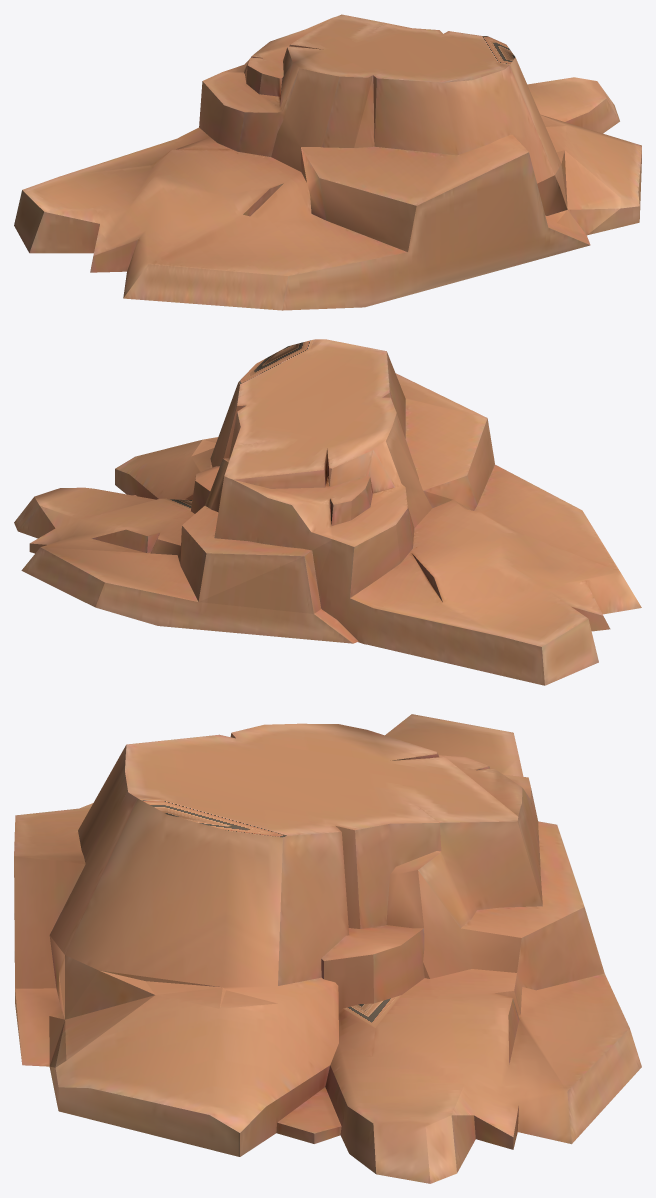
File: desert-rock-08.glb
3 renders of one model, top to bottom at view 1: azimuth 30°, elevation 25°; view 2: azimuth 150°, elevation 25°; view 3: azimuth 270°, elevation 25°, orthographic. The views are drawn at different scales.
Parts seen in each view (by area): view 1: Rock_7; view 2: Rock_7; view 3: Rock_7.
Boxes of the visible parts, box(x1,y1,x2,y2) form: Rock_7: box(14, 14, 641, 310); Rock_7: box(14, 339, 641, 685); Rock_7: box(14, 714, 641, 1183).
Bounding box in the file's own units: 8.02 × 2.2 × 5.04.
Materials: 1 (1 with a texture image).
